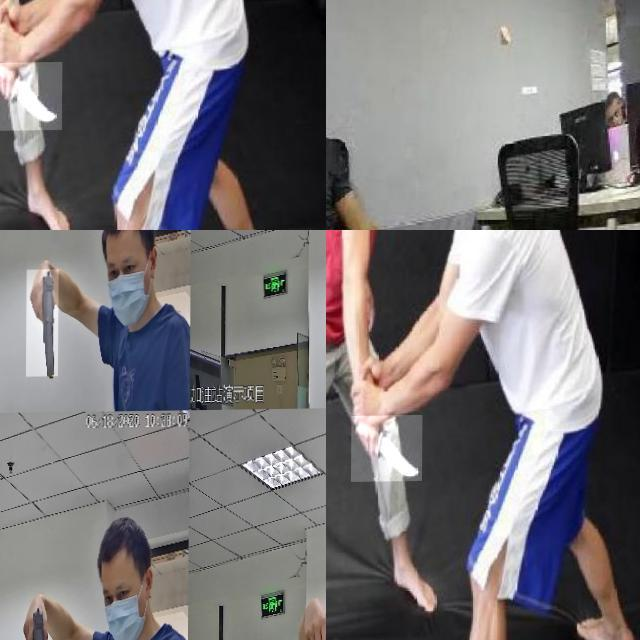-: (352, 416, 424, 483), (0, 62, 63, 131)
gun-knife-thesis - v11 Yolov5 augmented: (26, 270, 59, 377), (23, 603, 52, 640)
